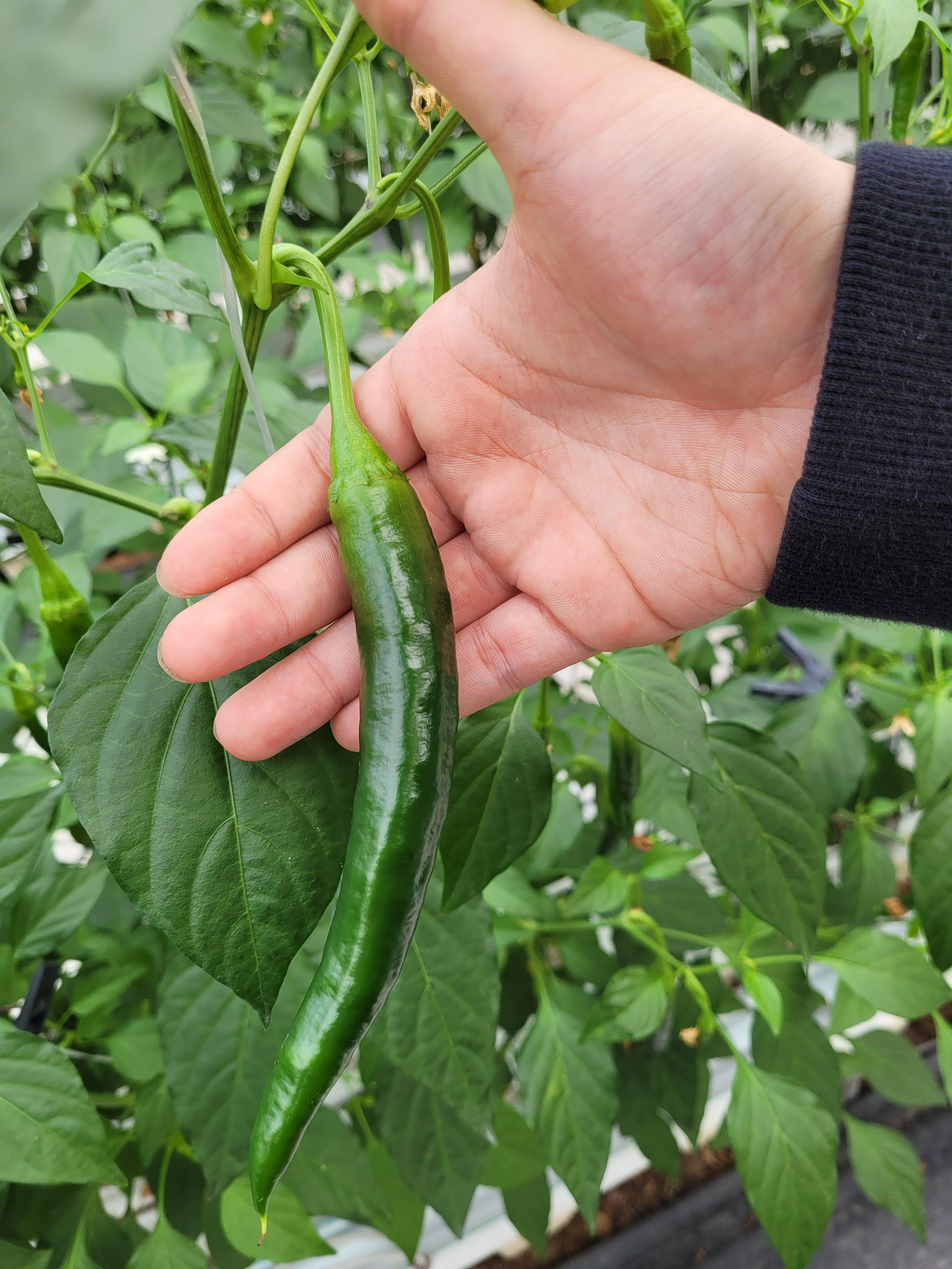Buah Cabai Sehat: (241, 405, 463, 1244)
